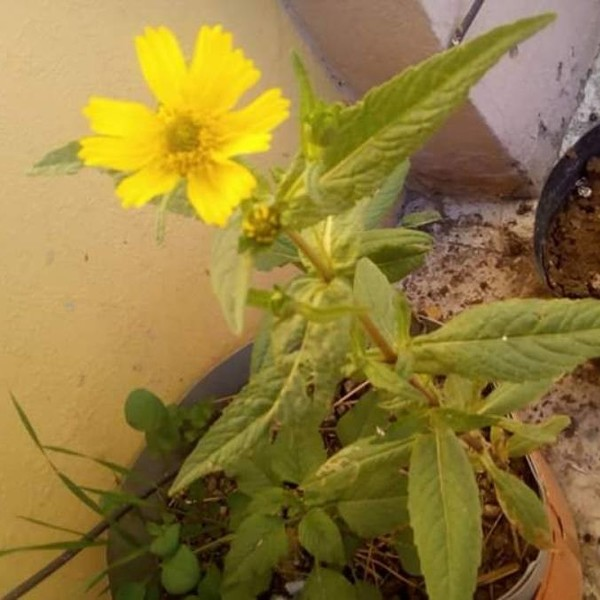obstacle: (94, 20, 587, 574)
